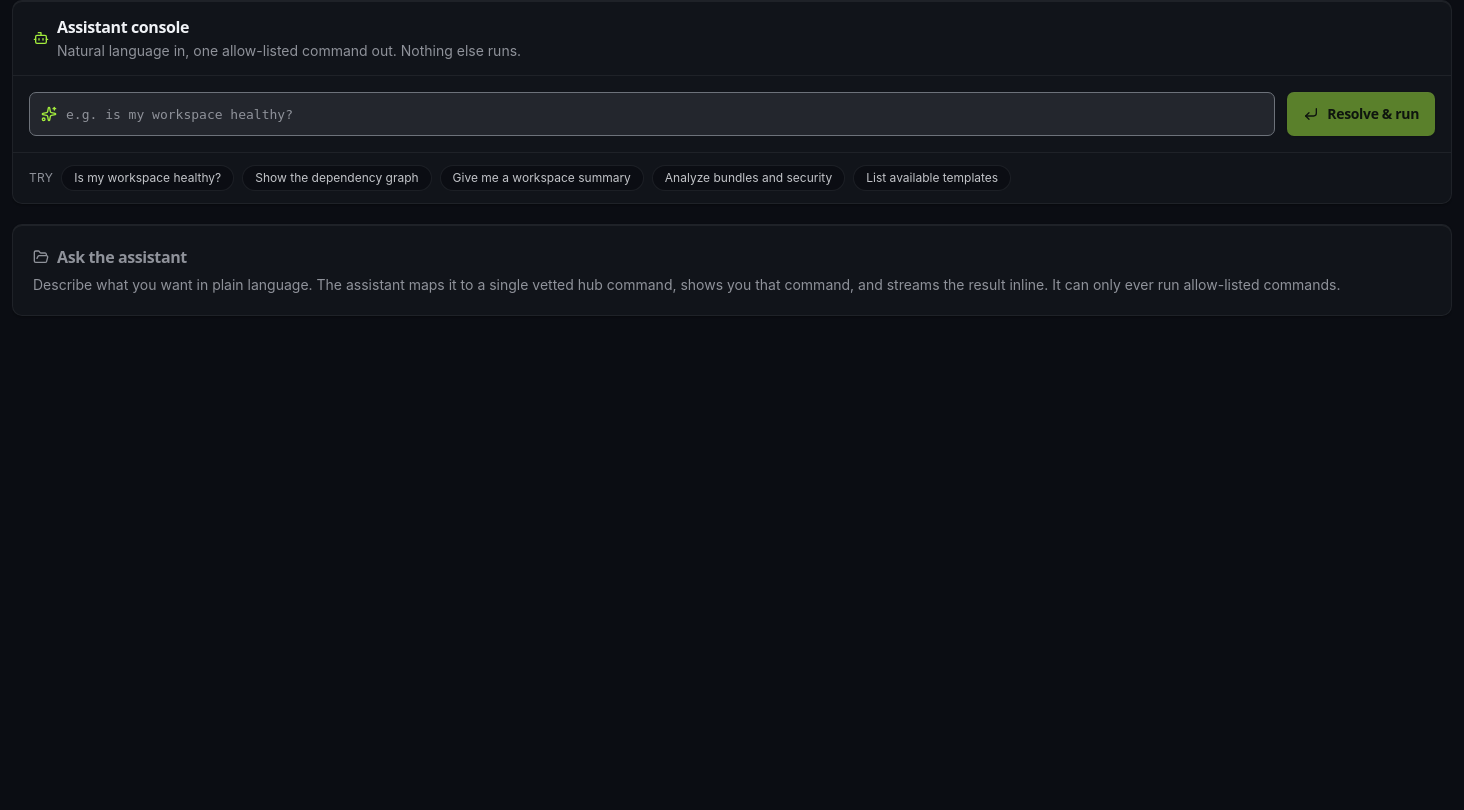
AssistantScreen › refuses an out-of-allow-list request and lists allowed commands
Type "delete the production database and email everyone" into the field named "ask the assistant". click: (652, 114)
box: [29, 92, 1275, 136]
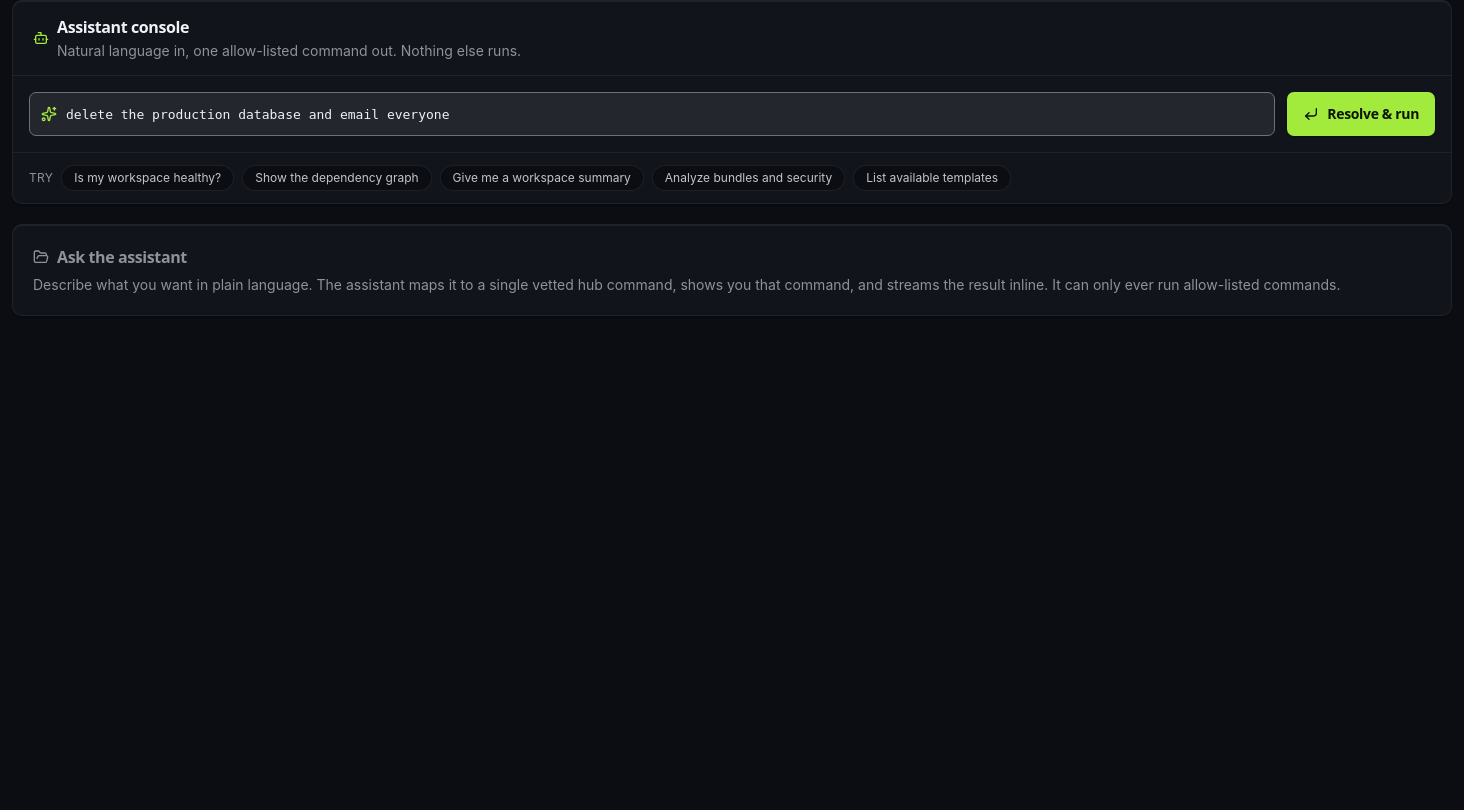
Click the button "Resolve & run". click: (1361, 114)
box: [1287, 92, 1435, 136]
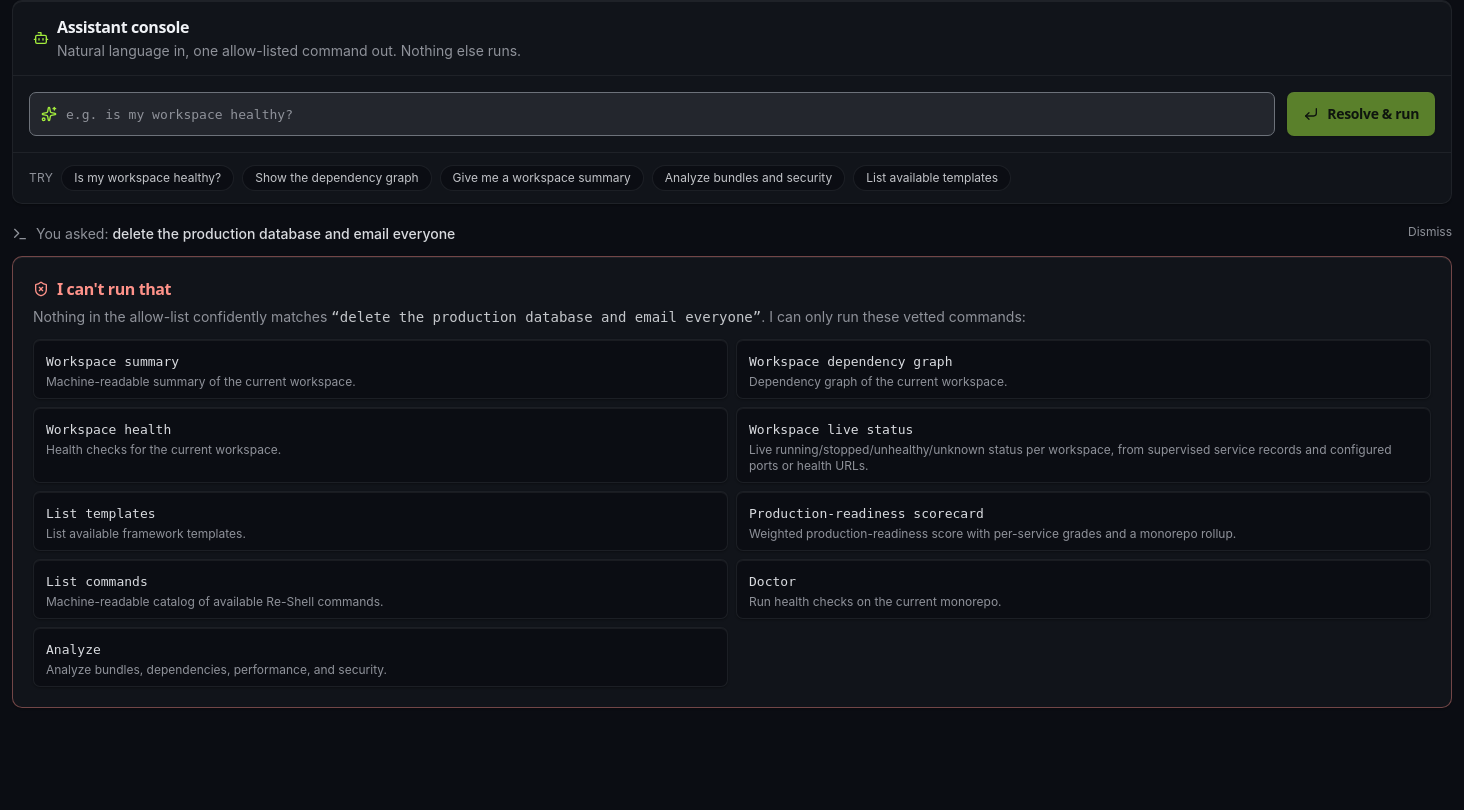
Expected: the text "Workspace health" is shown, [46, 422, 171, 437]
